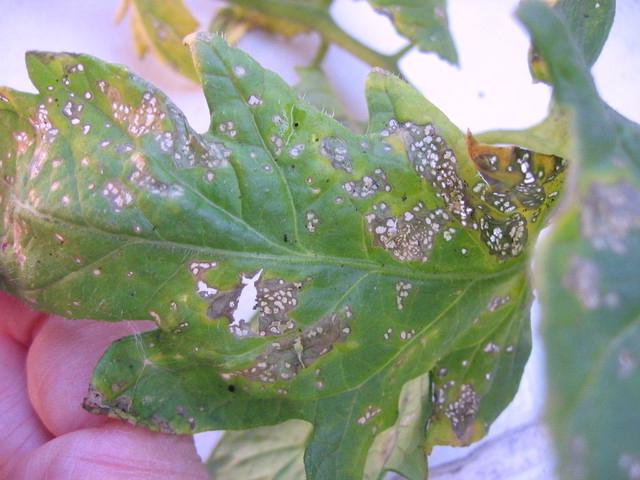Tomato Septoria leaf spot: (26, 60, 581, 470)
